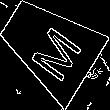M_NW: (18, 12, 80, 79)
